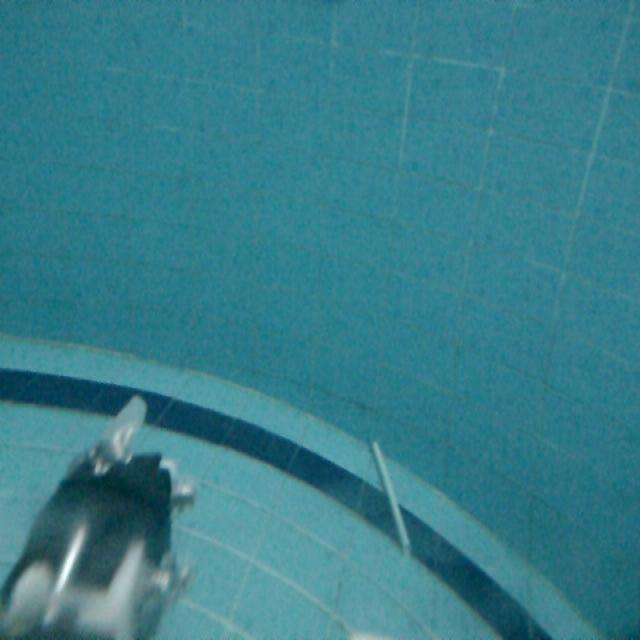Cube: (371, 439, 416, 564)
